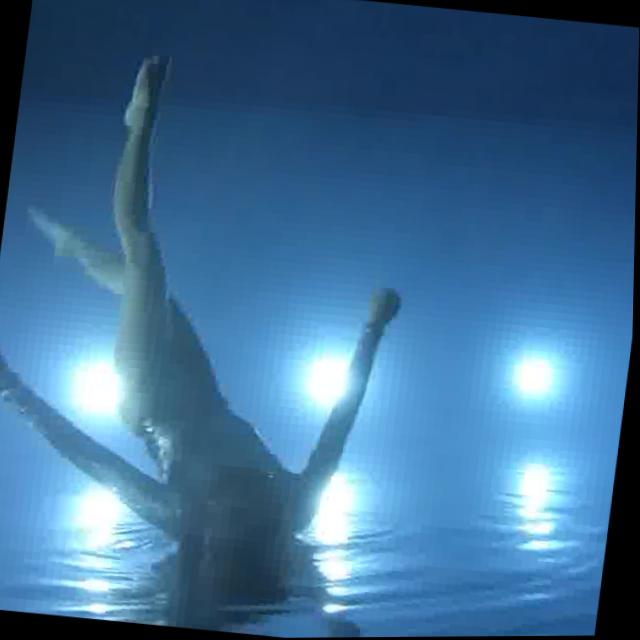human: (0, 31, 443, 611)
